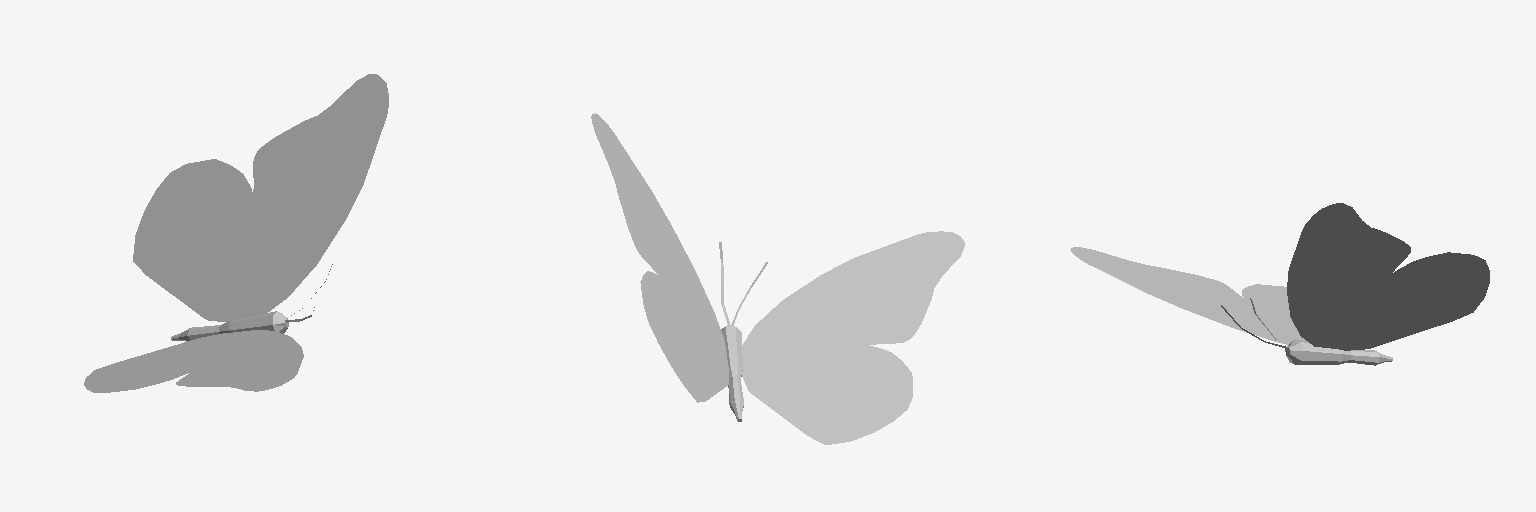
File: butterfly_2.obj
The picture shows the model from 3 angles: view 1: azimuth 30°, elevation 25°; view 2: azimuth 150°, elevation 25°; view 3: azimuth 270°, elevation 25°; orthographic projection.
Parts seen in each view (by area): view 1: Butterfly.002; view 2: Butterfly.002; view 3: Butterfly.002.
Part boxes in pixels (x1,y1,x2,y2): Butterfly.002: (84,74,388,392); Butterfly.002: (591,113,964,444); Butterfly.002: (1070,203,1489,365).
Size of the model in its own units: 1.82 by 1.44 by 2.18.